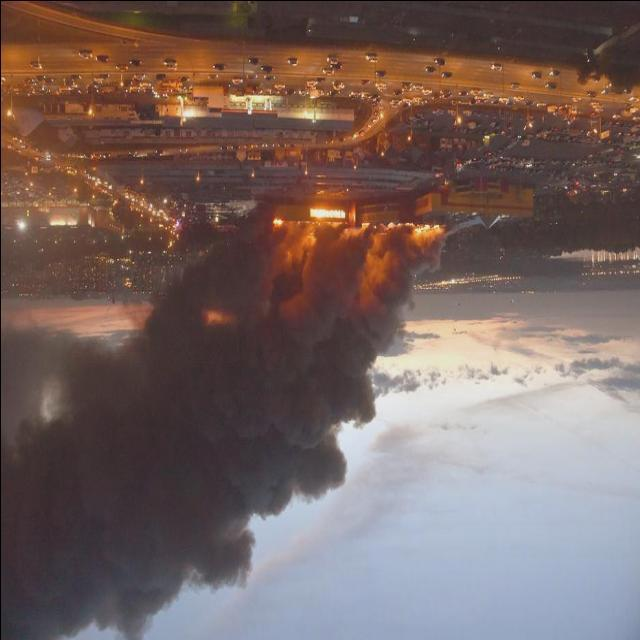Fire: (382, 220, 442, 236), (308, 205, 349, 223), (269, 218, 283, 230)
